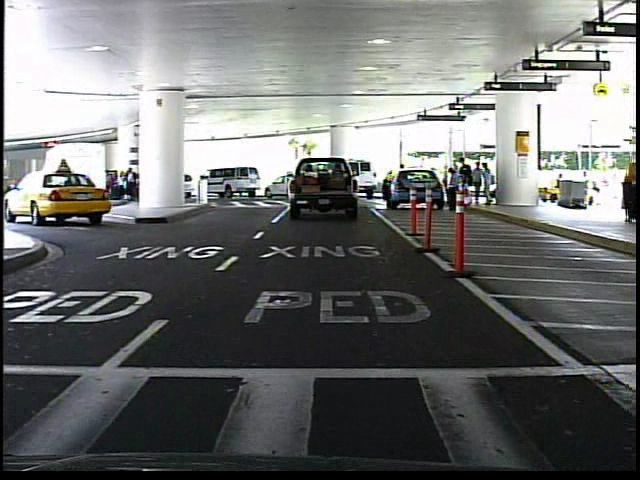person: (394, 159, 411, 200)
